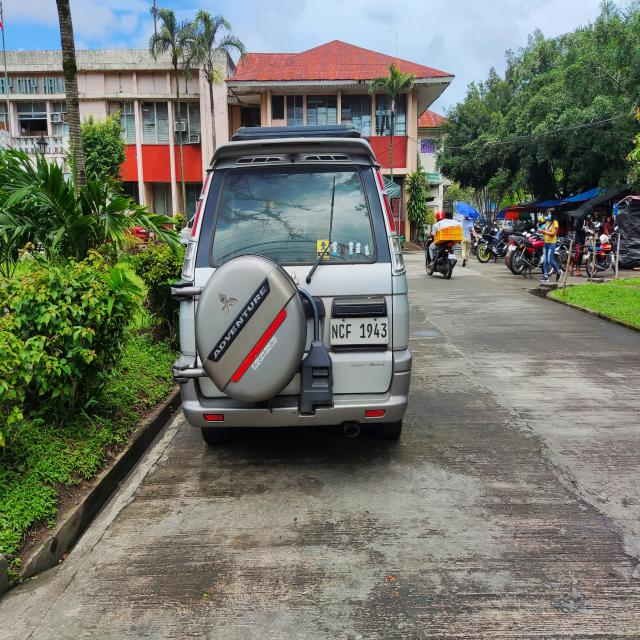plate: (329, 317, 391, 346)
